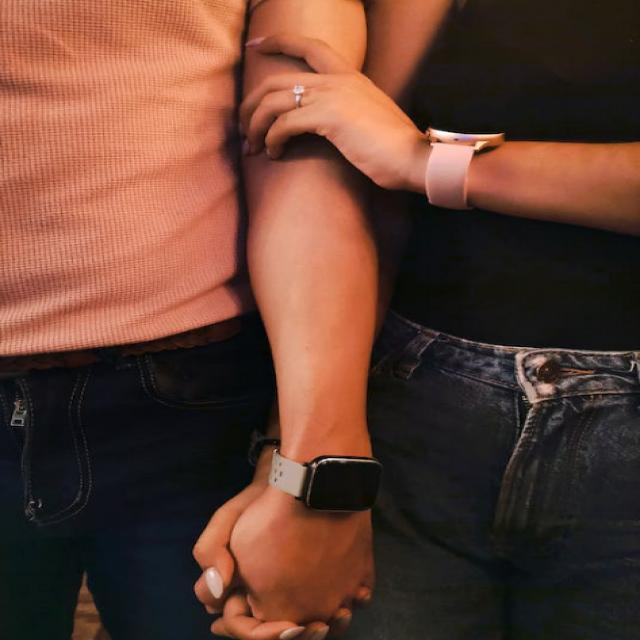Watch: (266, 450, 392, 519), (418, 118, 504, 216)
